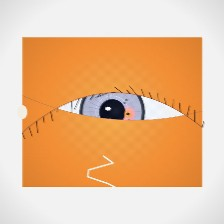foreign_body_visible: (120, 107, 136, 120)
